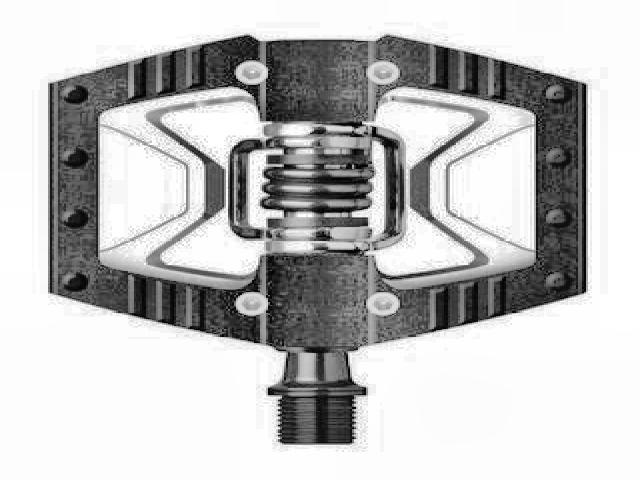pedal: (39, 29, 594, 444)
